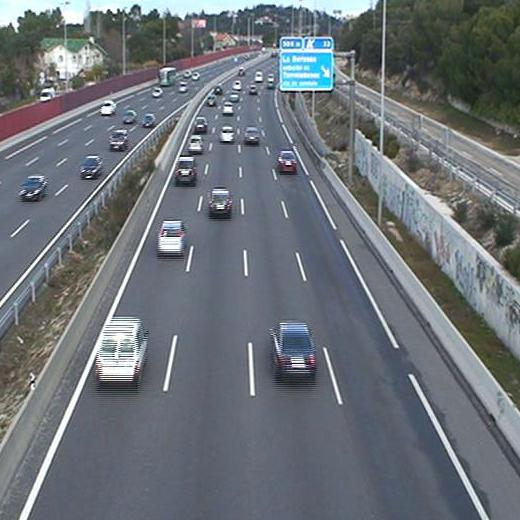car: (269, 321, 317, 379), (158, 219, 186, 253), (208, 187, 232, 216), (175, 156, 197, 182), (276, 149, 299, 173), (218, 124, 235, 144), (188, 134, 202, 153), (245, 127, 260, 144), (193, 116, 207, 132), (221, 101, 234, 115)
van: (95, 316, 151, 382)
